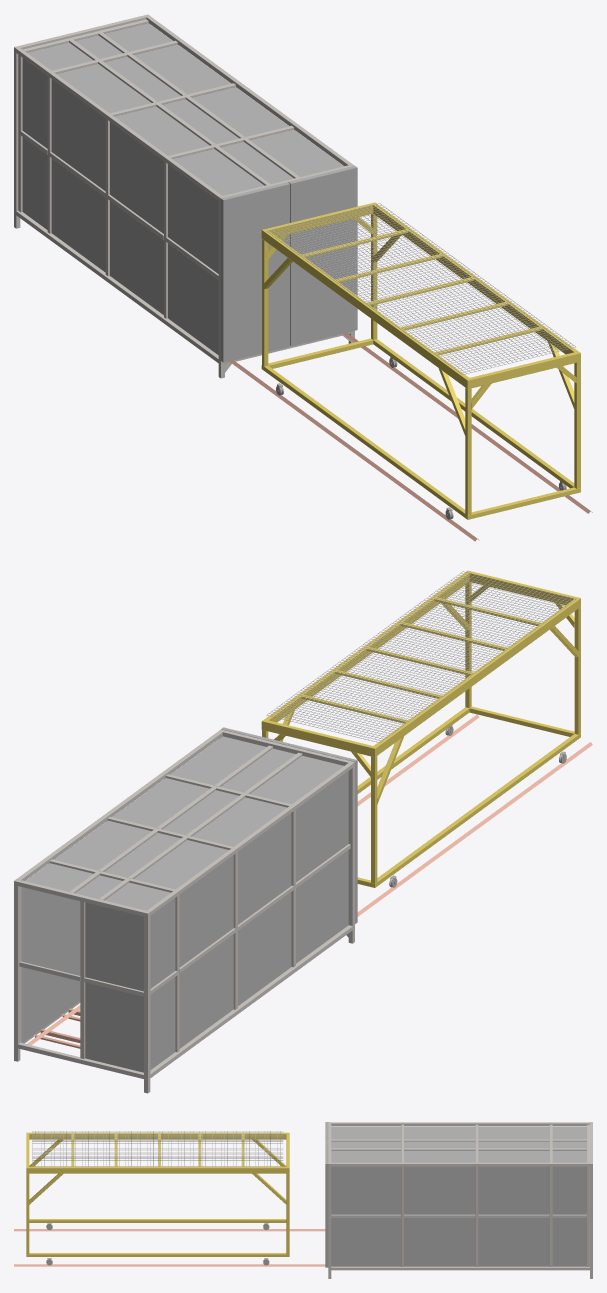
File: 3doven.glb
3 views of the same model, one above another, from view 1: azimuth 30°, elevation 25°; view 2: azimuth 150°, elevation 25°; view 3: azimuth 270°, elevation 25° (orthographic). The views are drawn at different scales.
Visible parts, largest first — view 1: troly_frame-1, door back sheet-1 (×2), Main_frame-1, top mesh-1, 4 x 8 _midle_sheet-2, 4 x 8 _midle_sheet-1, 4 x 8 sheet-1, 2 x 8-1, main_rail-1, Mirror4 x 8 _midle_sheet-3, Mirror4 x 8 _midle_sheet-4, MirrorInside_panels-4 (+4 smaller); view 2: Main_frame-1, troly_frame-1, top mesh-1, 4 x 8 _midle_sheet-2, 4 x 8 _midle_sheet-1, 4 x 8 sheet-1, back_panel-2, Mirror4 x 8 _midle_sheet-4, Mirror2 x 8-2, 2 x 8-1, Mirror4 x 8 _midle_sheet-3, MirrorInside_panels-4 (+5 smaller); view 3: Main_frame-1, troly_frame-1, Mirror4 x 8 _midle_sheet-4, Mirror4 x 8 _midle_sheet-3, MirrorInside_panels-4, top mesh-1, Mirror2 x 8-2, main_rail-1, 4 x 8 _midle_sheet-2, 4 x 8 _midle_sheet-1, 4 x 8 sheet-1, Top 1 x 4 sheet-3 (+5 smaller).
Boxes of the visible parts, x1,y1,x2,y2 form: troly_frame-1: (261, 202, 580, 519); door back sheet-1 (×2): (221, 166, 357, 362); Main_frame-1: (14, 14, 354, 378); top mesh-1: (266, 203, 575, 374); 4 x 8 _midle_sheet-2: (51, 64, 151, 272); 4 x 8 _midle_sheet-1: (110, 106, 209, 314); 4 x 8 sheet-1: (168, 149, 264, 354); 2 x 8-1: (22, 42, 93, 229); main_rail-1: (229, 332, 592, 541); Mirror4 x 8 _midle_sheet-3: (192, 87, 288, 136); Mirror4 x 8 _midle_sheet-4: (134, 44, 230, 94); MirrorInside_panels-4: (250, 129, 343, 176); Main_frame-1: (14, 729, 354, 1093); troly_frame-1: (261, 570, 580, 887); top mesh-1: (266, 571, 576, 742); 4 x 8 _midle_sheet-2: (134, 840, 233, 1048); 4 x 8 _midle_sheet-1: (192, 797, 291, 1005); 4 x 8 sheet-1: (250, 755, 348, 963); back_panel-2: (85, 902, 143, 1072); Mirror4 x 8 _midle_sheet-4: (50, 820, 151, 1021); Mirror2 x 8-2: (21, 863, 93, 1042); 2 x 8-1: (105, 882, 175, 1069); Mirror4 x 8 _midle_sheet-3: (112, 778, 209, 827); MirrorInside_panels-4: (170, 736, 266, 785); Main_frame-1: (328, 1122, 592, 1278); troly_frame-1: (26, 1132, 289, 1256); Mirror4 x 8 _midle_sheet-4: (478, 1151, 549, 1266); Mirror4 x 8 _midle_sheet-3: (404, 1151, 475, 1266); MirrorInside_panels-4: (331, 1151, 400, 1266); top mesh-1: (32, 1131, 282, 1166); Mirror2 x 8-2: (552, 1151, 586, 1266); main_rail-1: (14, 1229, 325, 1266); 4 x 8 _midle_sheet-2: (478, 1126, 549, 1139); 4 x 8 _midle_sheet-1: (404, 1126, 475, 1139); 4 x 8 sheet-1: (331, 1126, 400, 1139); Top 1 x 4 sheet-3: (478, 1141, 549, 1148).
Bounding box in the file's own units: 1.62 × 2.08 × 9.5.
